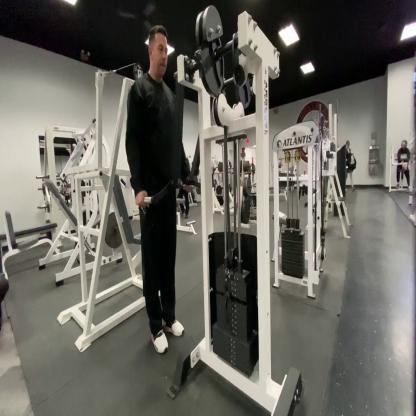lateral raises machine: (144, 0, 282, 416)
